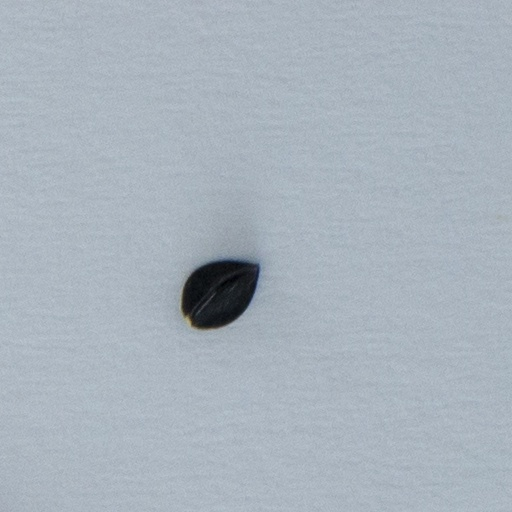Fallopia-Convolvulus-poly: (182, 261, 258, 329)
